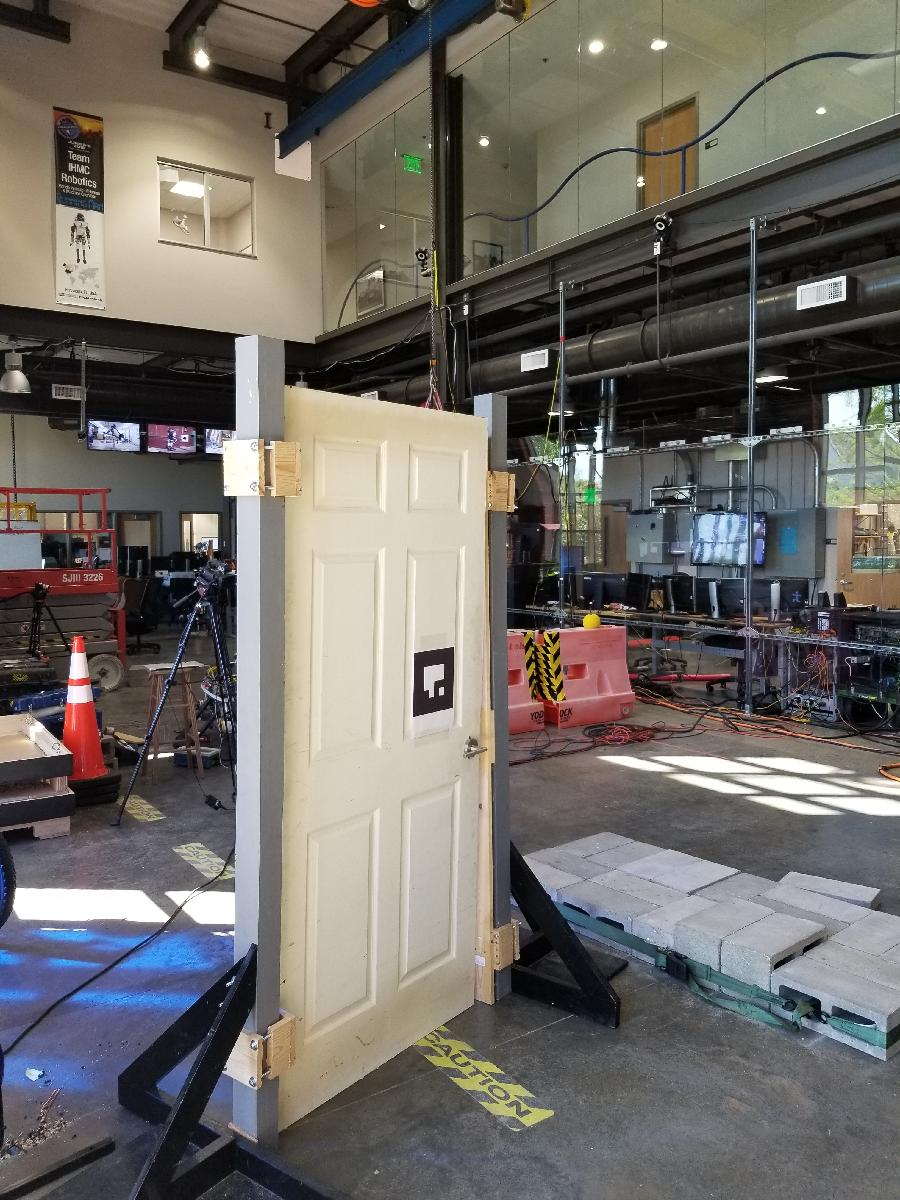door: (271, 377, 493, 1149)
doorHandle: (458, 736, 487, 762)
